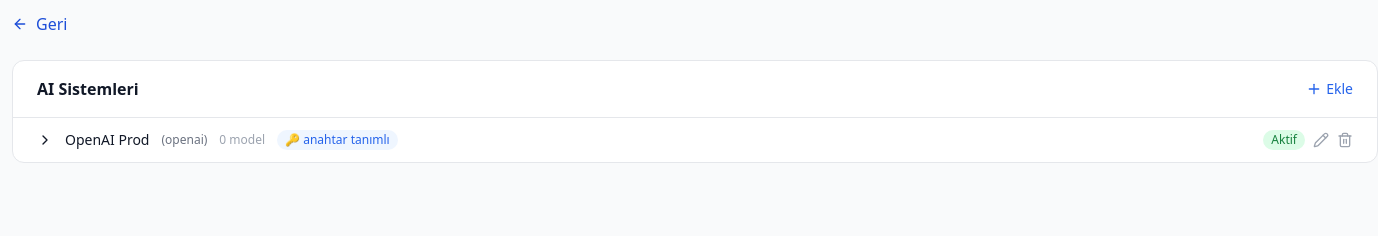
Test case: AISettingsPage › model yokken "Model tanımlanmamış" gösterir
Step 1. Click the text "OpenAI Prod" → (107, 140), box top-left (65, 130), bottom-right (150, 150)
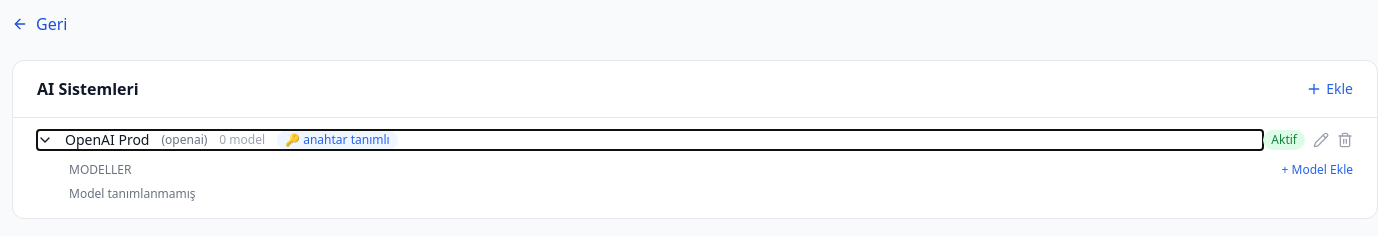
Expected: the text "Model tanımlanmamış" is shown, top-left (69, 185), bottom-right (196, 202)
